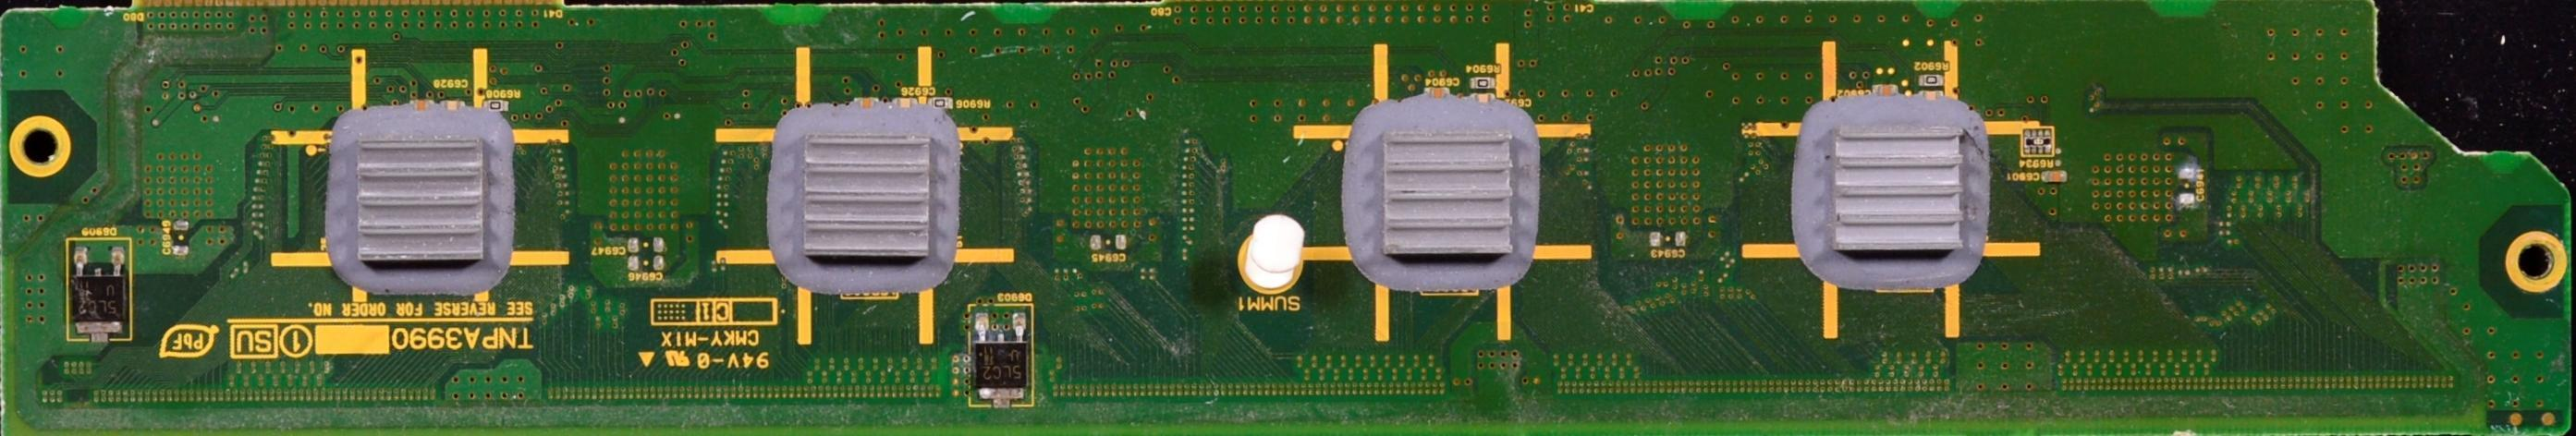Capacitor: (1639, 212, 1710, 265), (2168, 163, 2213, 224), (156, 210, 198, 263), (1078, 231, 1138, 265), (618, 250, 670, 283), (618, 230, 674, 255), (1862, 76, 1911, 102), (2029, 168, 2078, 187), (887, 91, 922, 116), (437, 94, 471, 113), (1420, 85, 1458, 102)
Resistor: (2015, 116, 2071, 159), (1465, 67, 1513, 91), (928, 91, 958, 115), (1913, 67, 1949, 86), (484, 91, 513, 115)
